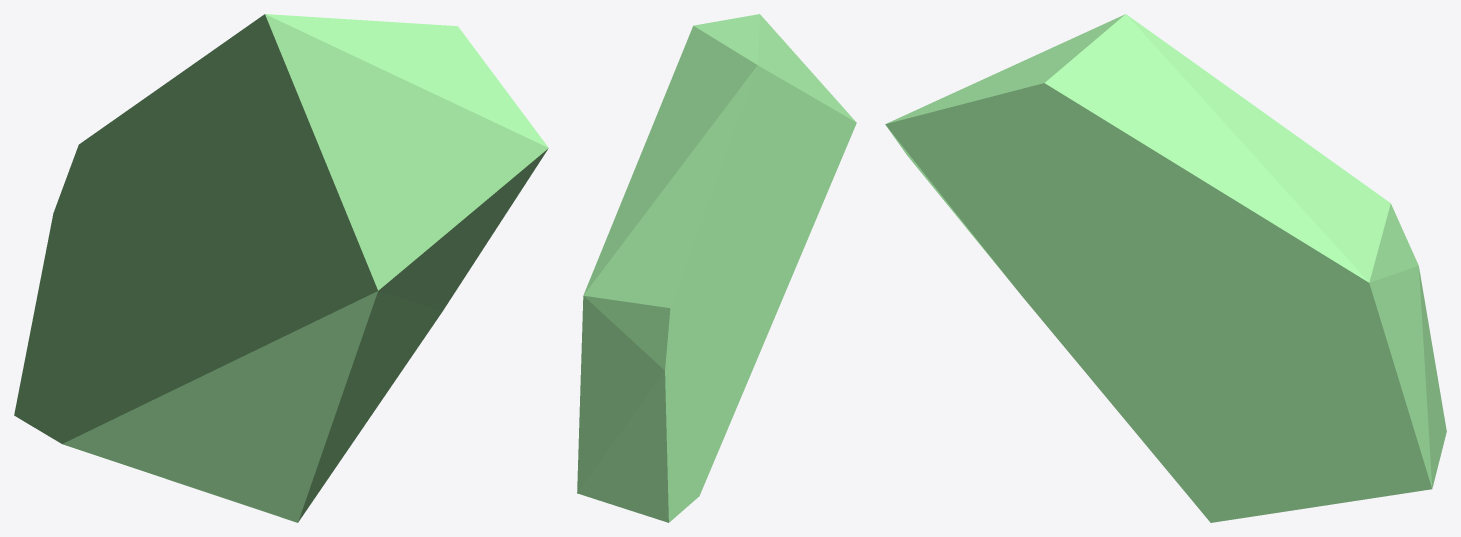
Rendered from UMIRobot_UMIRobot_link_5_convex_coll_36.dae.
The picture shows the model from 3 angles, left to right: view 1: azimuth 30°, elevation 25°; view 2: azimuth 150°, elevation 25°; view 3: azimuth 270°, elevation 25°; orthographic projection. The views are drawn at different scales.
Parts seen in each view (by area): view 1: node; view 2: node; view 3: node.
Part boxes in pixels (x1=…): node: x1=14, y1=14, x2=548, y2=522; node: x1=577, y1=14, x2=856, y2=522; node: x1=885, y1=14, x2=1446, y2=522.
Bounding box in the file's own units: 0.00268 × 0.00713 × 0.00764.
